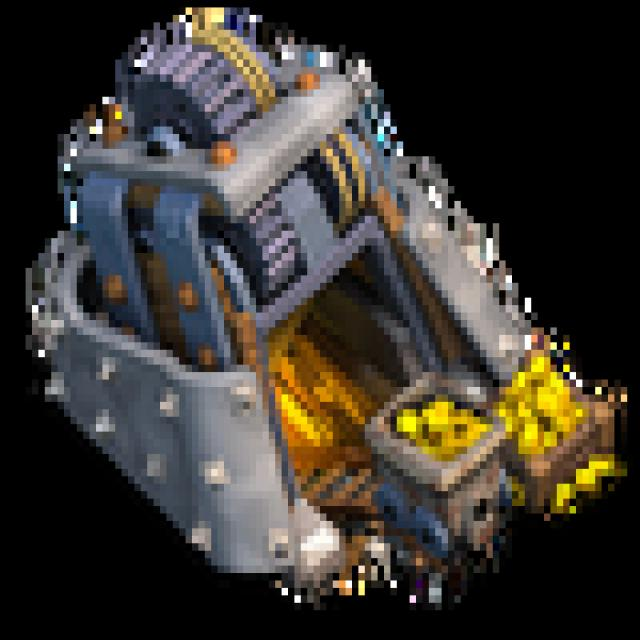gold_mine: (12, 6, 626, 611)
